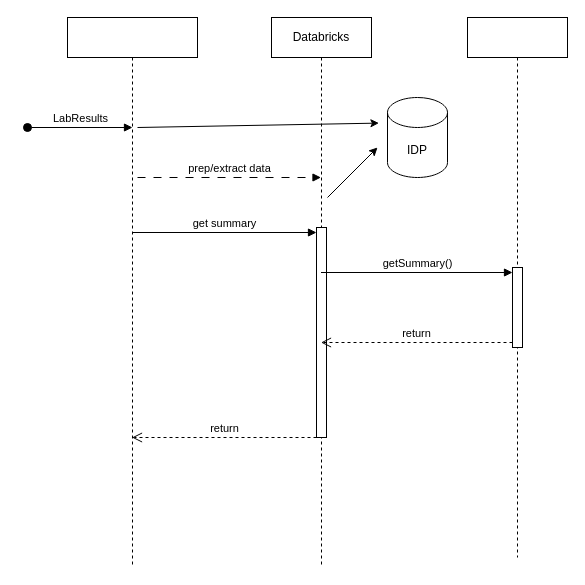
This 585x585 diagram has some shape labels left out. The box of each missing label's shape, as (x1, y1, x2, y2) in pixels:
Epic: (66, 16, 198, 568)
OpenAI: (466, 16, 568, 558)
